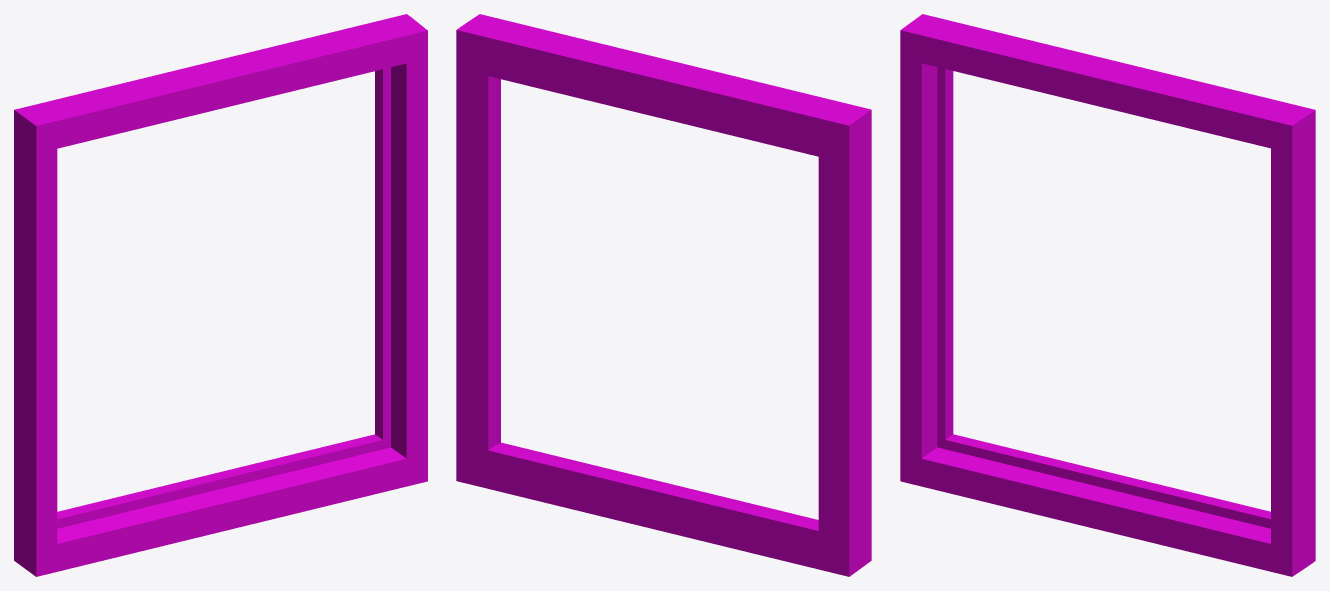
Rendered from Window_B_03_Lod1.fbx.
3 views of the same model, side by side, from view 1: azimuth 30°, elevation 25°; view 2: azimuth 150°, elevation 25°; view 3: azimuth 330°, elevation 25° (orthographic).
Parts seen in each view (by area): view 1: Window_B_03_Lod1; view 2: Window_B_03_Lod1; view 3: Window_B_03_Lod1.
Boxes of the visible parts, <box> form: Window_B_03_Lod1: <box>14,14,427,576</box>; Window_B_03_Lod1: <box>456,14,871,576</box>; Window_B_03_Lod1: <box>900,14,1315,576</box>.
Bounding box in the file's own units: 111 × 121 × 10.81.
